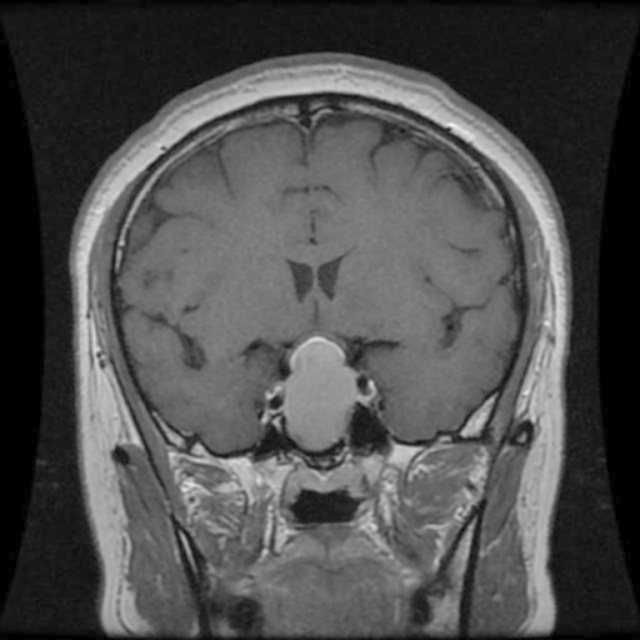no tumor: (289, 340, 356, 461)
